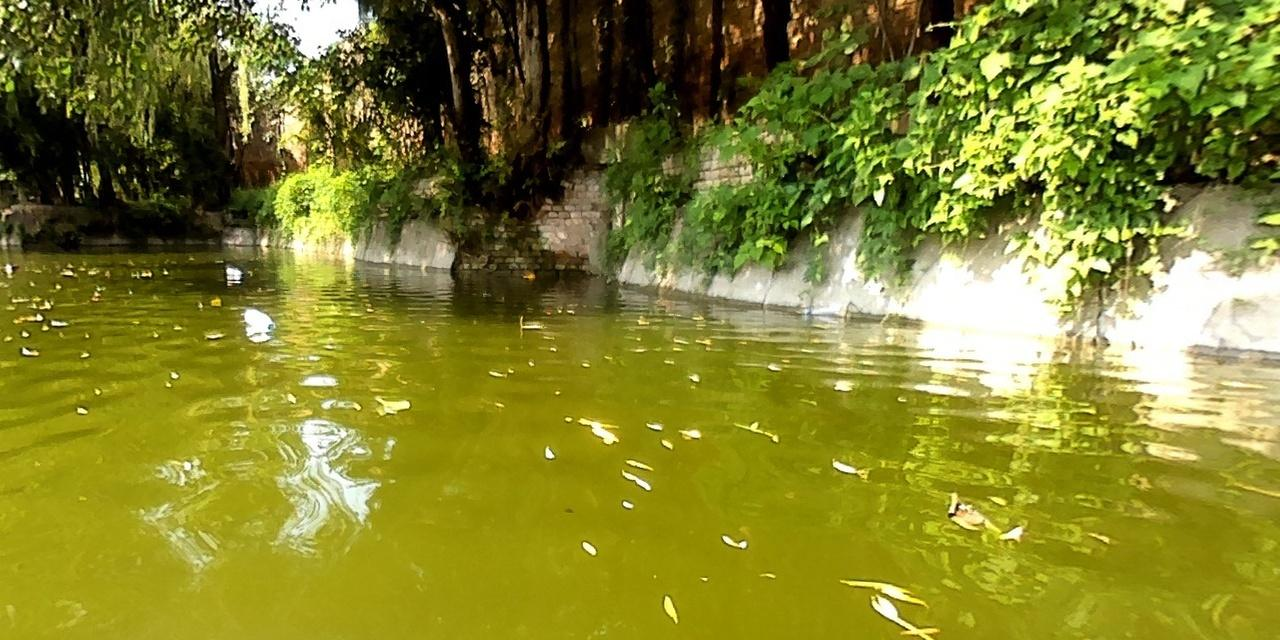bottle: (240, 306, 274, 331), (222, 264, 243, 279)
